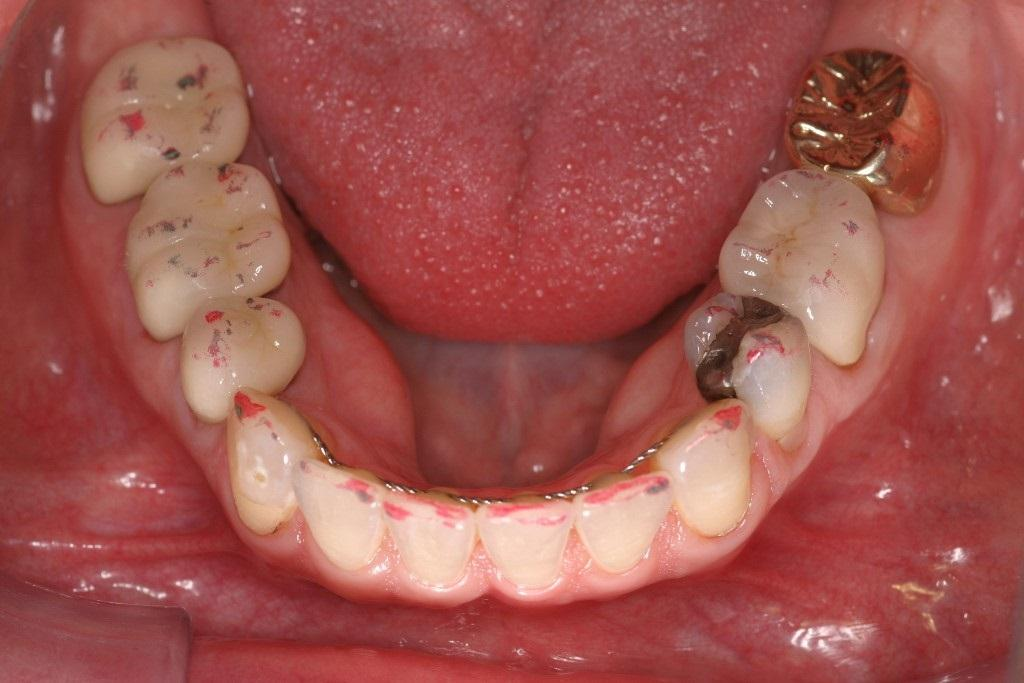LL1BC_decay: (685, 295, 821, 466)
LL1M_decay: (782, 47, 948, 228)
LL2BC_decay: (716, 170, 885, 373)
LLCI_decay: (474, 491, 579, 597)
LLC_decay: (647, 405, 757, 542)
LLLI_decay: (570, 475, 676, 582)
LR1BC_decay: (176, 285, 311, 408)
LR1M_decay: (68, 31, 256, 194)
LR2BC_decay: (121, 158, 299, 339)
LRCI_decay: (380, 483, 477, 597)
LRC_decay: (218, 389, 320, 539)
LRLI_decay: (293, 455, 390, 573)
